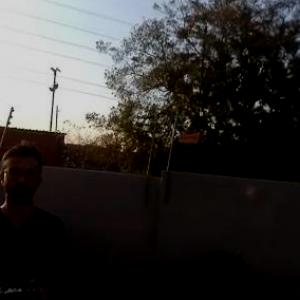follow: (0, 137, 73, 299)
